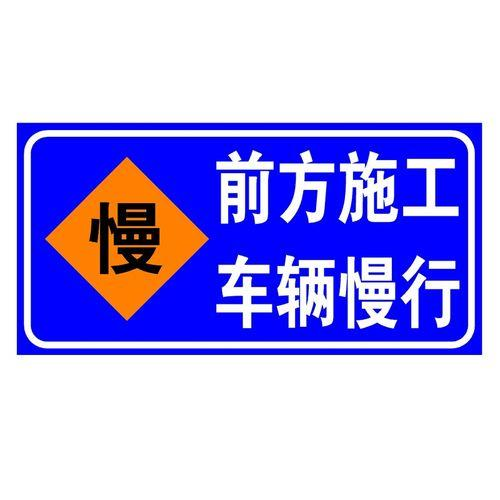sign: (18, 124, 485, 356)
